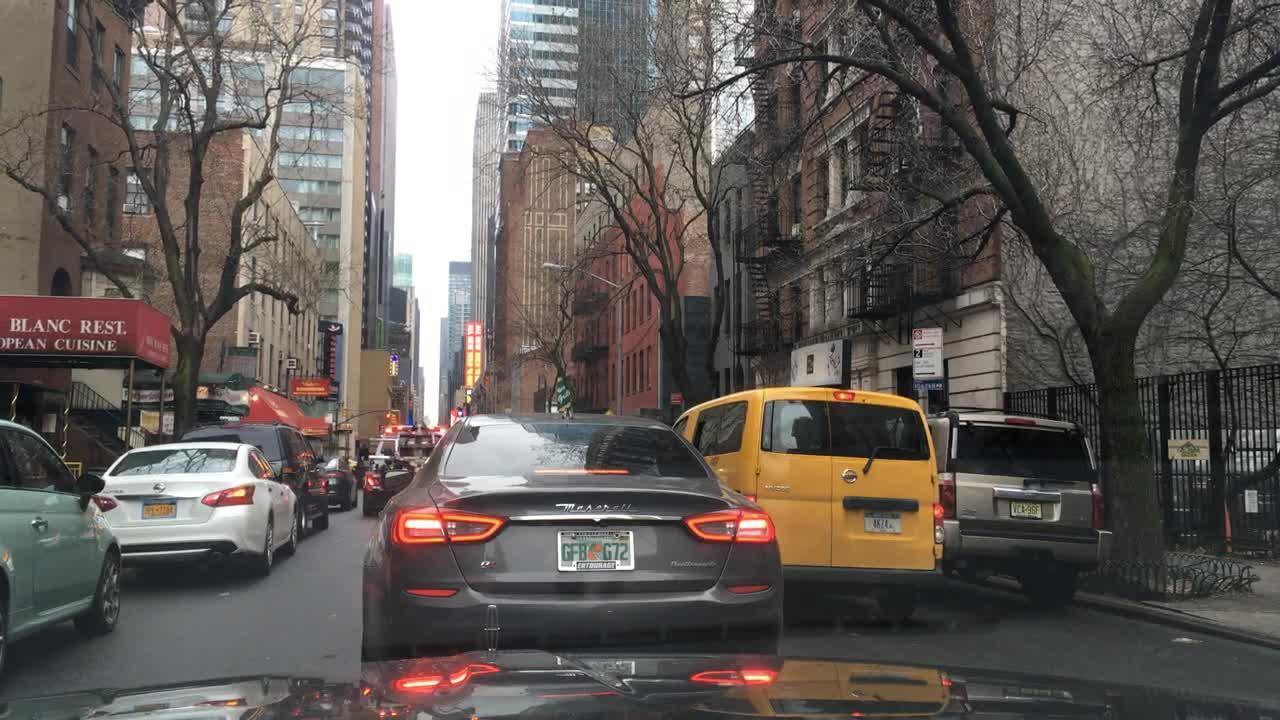Nissan: (841, 460, 867, 494), (150, 478, 173, 502)
